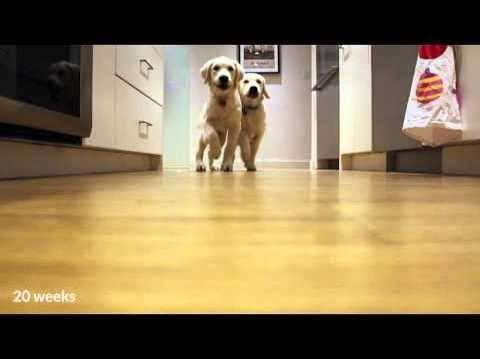puppy-dog: (195, 56, 246, 173), (239, 73, 269, 172)
